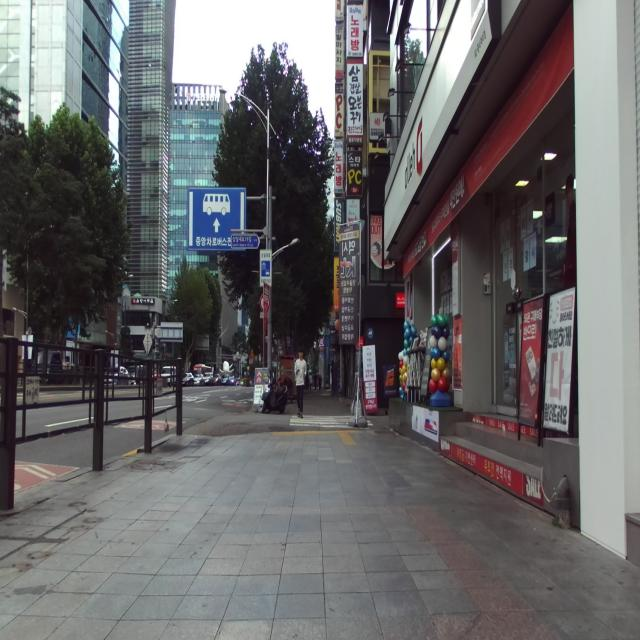횡단보도: (290, 415, 373, 429)
